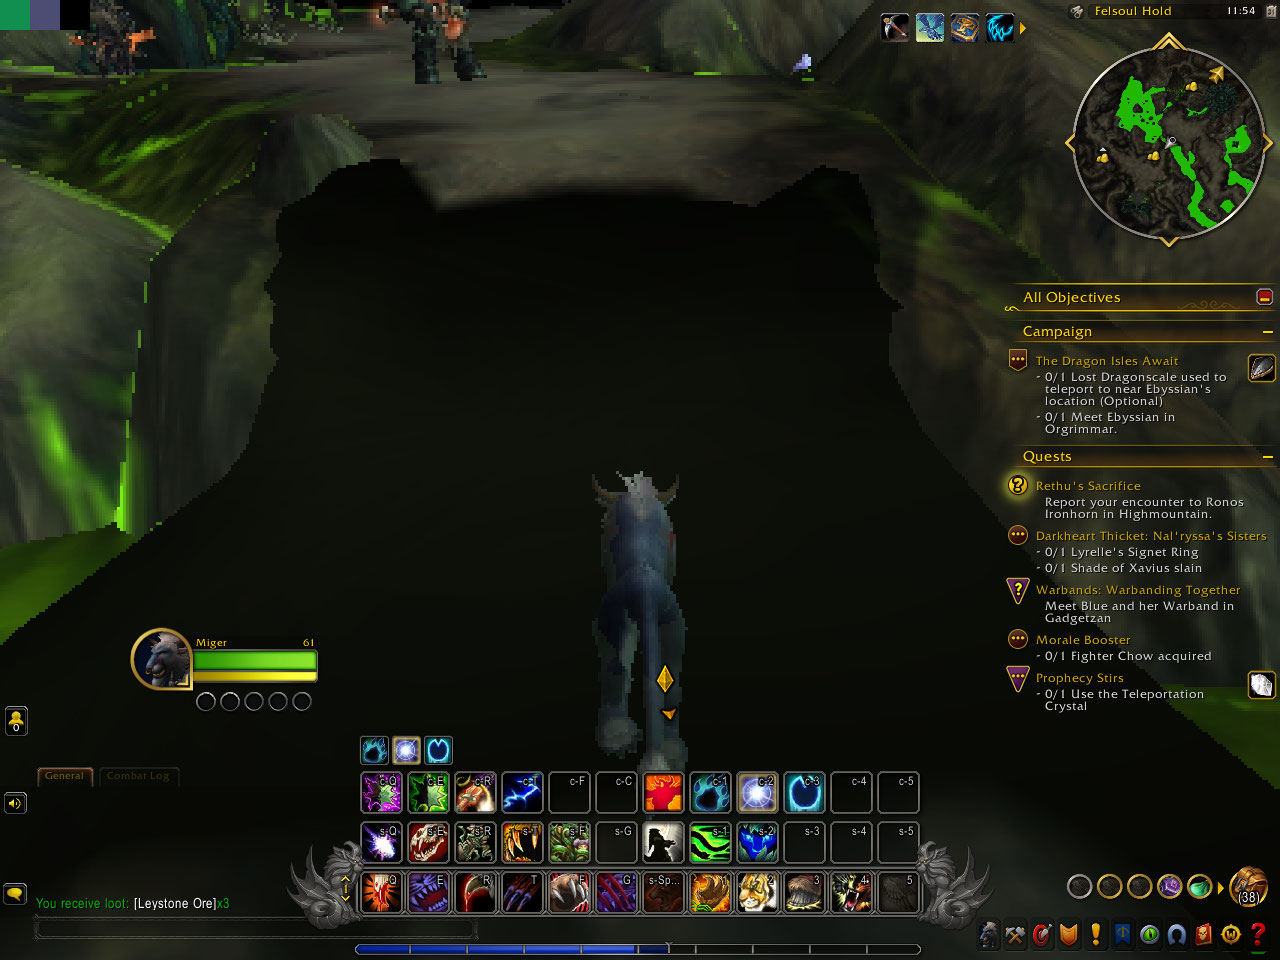ore: (790, 50, 820, 70)
